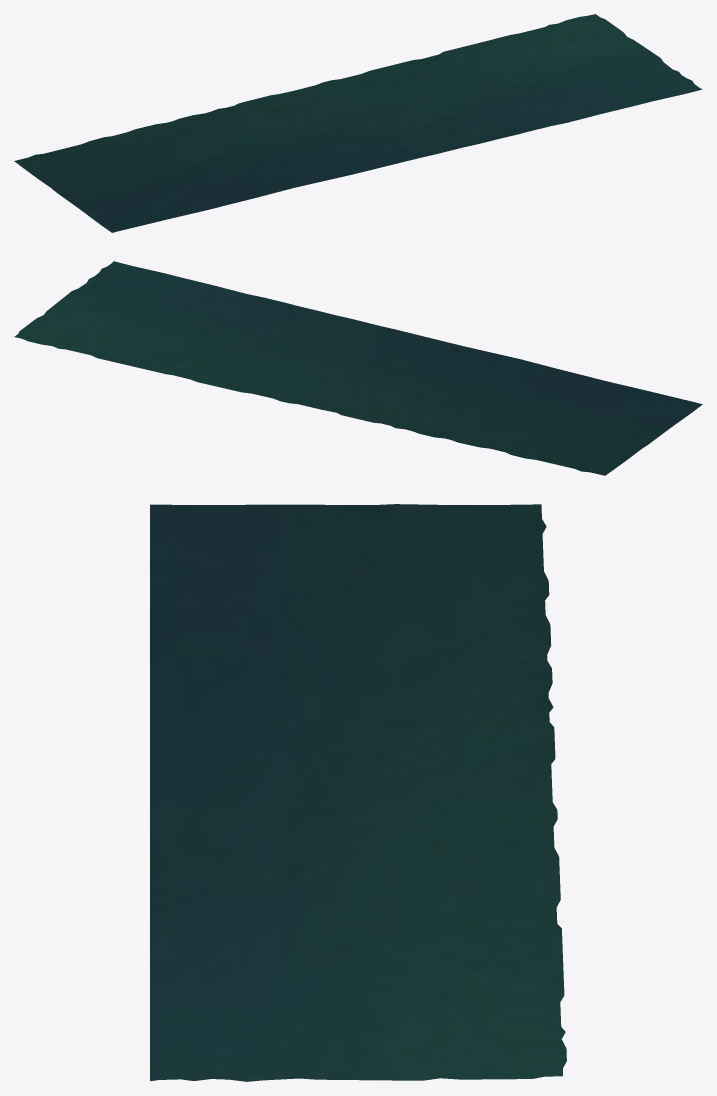
3 views of the same model, one above another, from view 1: azimuth 30°, elevation 25°; view 2: azimuth 150°, elevation 25°; view 3: azimuth 270°, elevation 25° (orthographic). The views are drawn at different scales.
Size of the model in its own units: 310 by 0.8822 by 94.89.
1 material, 1 textured.
